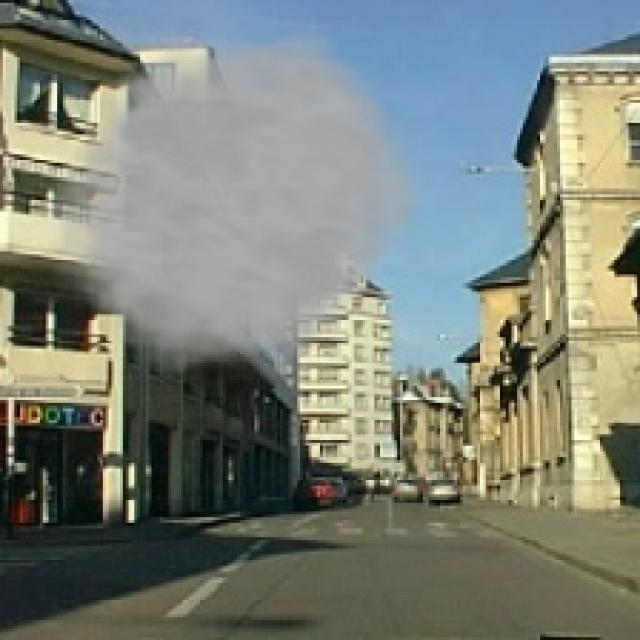smoke: (29, 17, 434, 377)
